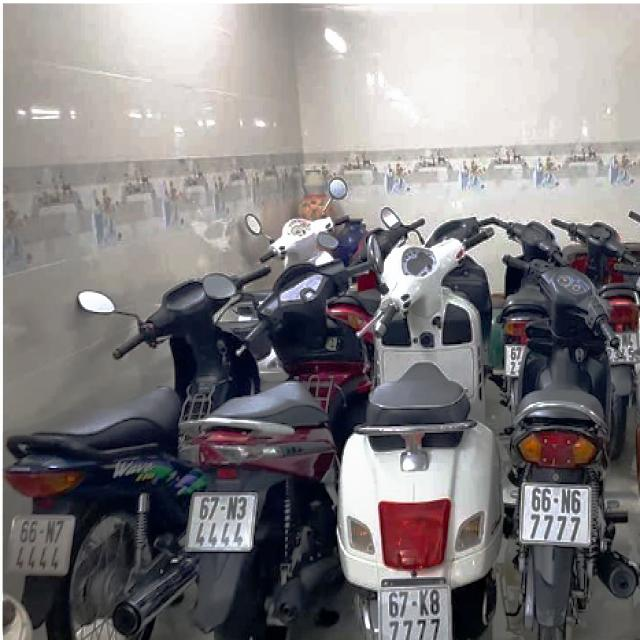license_plate: (522, 484, 593, 548), (187, 494, 257, 552), (8, 517, 73, 574)
